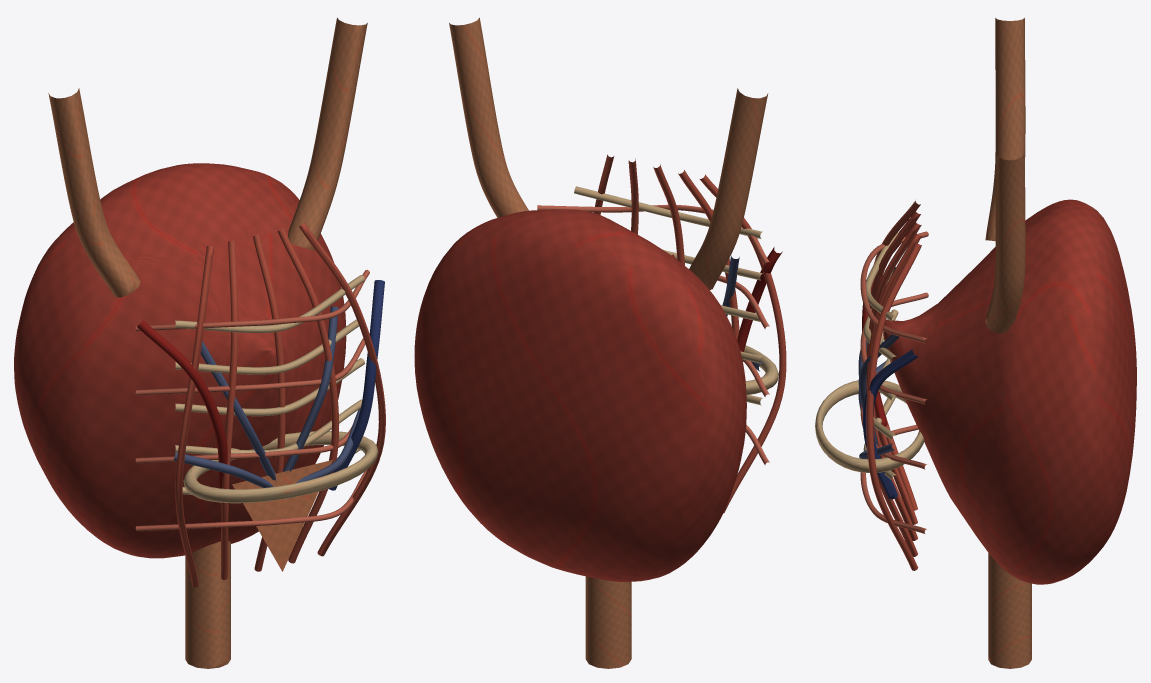
File: bladder.8d71de12.glb
The picture shows the model from 3 angles, left to right: view 1: azimuth 30°, elevation 25°; view 2: azimuth 150°, elevation 25°; view 3: azimuth 270°, elevation 25°; orthographic projection. The views are drawn at different scales.
Visible parts, largest first — view 1: Urinary bladder, procedural-bladder-surface-2, procedural-bladder-surface-1, procedural-bladder-surface-3, procedural-bladder-surface-4, Trigone surface, Detrusor longitudinal fibre 5, Detrusor longitudinal fibre 1, Detrusor longitudinal fibre 2, Detrusor longitudinal fibre 4, Vesical venous plexus, Detrusor longitudinal fibre 3 (+13 smaller); view 2: Urinary bladder, procedural-bladder-surface-2, procedural-bladder-surface-1, procedural-bladder-surface-3, Detrusor longitudinal fibre 1, procedural-bladder-surface-5, Detrusor transverse fibre 4, Superior vesical artery, Detrusor longitudinal fibre 3, Detrusor longitudinal fibre 2, procedural-bladder-surface-4, Detrusor longitudinal fibre 4; view 3: Urinary bladder, procedural-bladder-surface-2, procedural-bladder-surface-1, procedural-bladder-surface-3, Detrusor longitudinal fibre 5, procedural-bladder-surface-4, Detrusor longitudinal fibre 4, Detrusor longitudinal fibre 2, Detrusor longitudinal fibre 3, Vesical venous plexus, Detrusor transverse fibre 4, Detrusor longitudinal fibre 1 (+4 smaller).
Part boxes in pixels (x1,y1,x2,y2): Urinary bladder: (14, 163, 346, 558); procedural-bladder-surface-2: (288, 17, 367, 250); procedural-bladder-surface-1: (48, 88, 140, 297); procedural-bladder-surface-3: (185, 541, 230, 668); procedural-bladder-surface-4: (183, 431, 378, 503); Trigone surface: (232, 460, 332, 571); Detrusor longitudinal fibre 5: (298, 222, 385, 556); Detrusor longitudinal fibre 1: (175, 246, 213, 587); Detrusor longitudinal fibre 2: (221, 241, 238, 579); Detrusor longitudinal fibre 4: (277, 228, 339, 563); Vesical venous plexus: (328, 280, 384, 490); Detrusor longitudinal fibre 3: (252, 234, 285, 571); Urinary bladder: (414, 209, 746, 581); procedural-bladder-surface-2: (449, 17, 528, 217); procedural-bladder-surface-1: (689, 88, 768, 289); procedural-bladder-surface-3: (585, 576, 631, 668); Detrusor longitudinal fibre 1: (699, 174, 786, 513); procedural-bladder-surface-5: (574, 186, 762, 238); Detrusor transverse fibre 4: (537, 204, 769, 265); Superior vesical artery: (737, 247, 782, 351); Detrusor longitudinal fibre 3: (653, 164, 684, 265); Detrusor longitudinal fibre 2: (678, 170, 739, 339); procedural-bladder-surface-4: (744, 345, 778, 395); Detrusor longitudinal fibre 4: (628, 158, 638, 234); Urinary bladder: (883, 199, 1136, 584); procedural-bladder-surface-2: (985, 152, 1025, 333); procedural-bladder-surface-1: (985, 18, 1025, 241); procedural-bladder-surface-3: (988, 553, 1031, 668); Detrusor longitudinal fibre 5: (866, 242, 921, 570); procedural-bladder-surface-4: (815, 380, 924, 472); Detrusor longitudinal fibre 4: (866, 233, 921, 556); Detrusor longitudinal fibre 2: (869, 211, 920, 524); Detrusor longitudinal fibre 3: (866, 222, 921, 540); Vesical venous plexus: (863, 349, 918, 499); Detrusor transverse fibre 4: (860, 231, 928, 343); Detrusor longitudinal fibre 1: (874, 200, 920, 510).
Size of the model in its own units: 1.75 by 3.21 by 1.62.
Materials: 9 (9 with a texture image).
